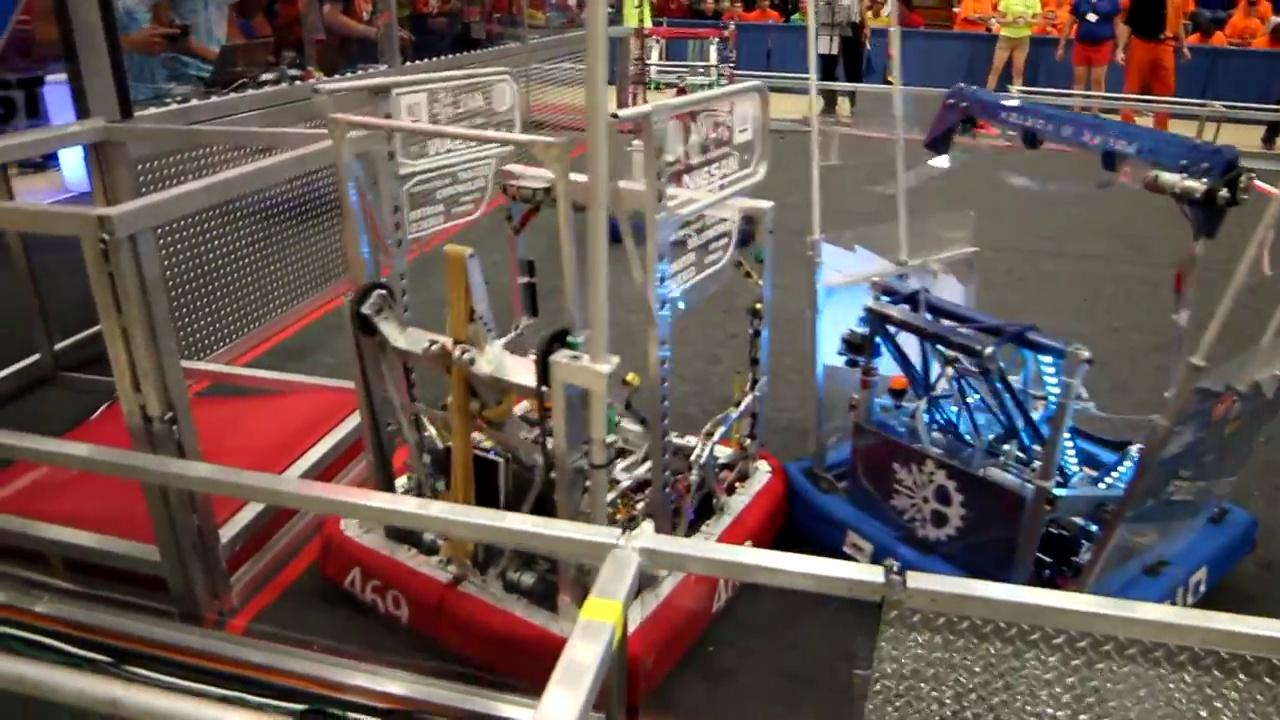robot: (306, 54, 785, 701), (787, 81, 1280, 638)
